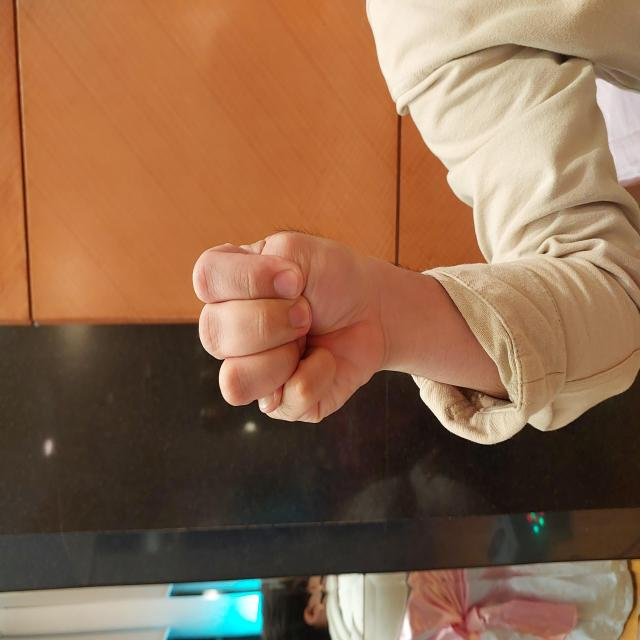M: (216, 190, 411, 386)
